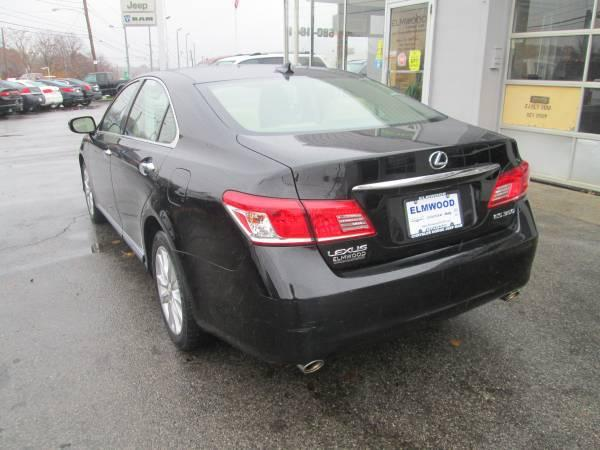Front_Left_Door: (83, 136, 121, 242)
Front_Left_Window: (93, 80, 141, 138)
Left_Taillight: (222, 189, 379, 247)
Rear_Bumper: (181, 196, 544, 365)
Rear_Fender: (144, 142, 295, 268)
Rear_Left_Door: (110, 142, 167, 273)
Rear_Left_Window: (119, 80, 181, 154)
Rear_Windshield: (198, 76, 446, 139)
Right_Taillight: (485, 158, 529, 209)
Roof: (132, 62, 363, 144)
Tailgate: (235, 113, 519, 270)
Wheel: (154, 236, 196, 353), (81, 167, 95, 217)
